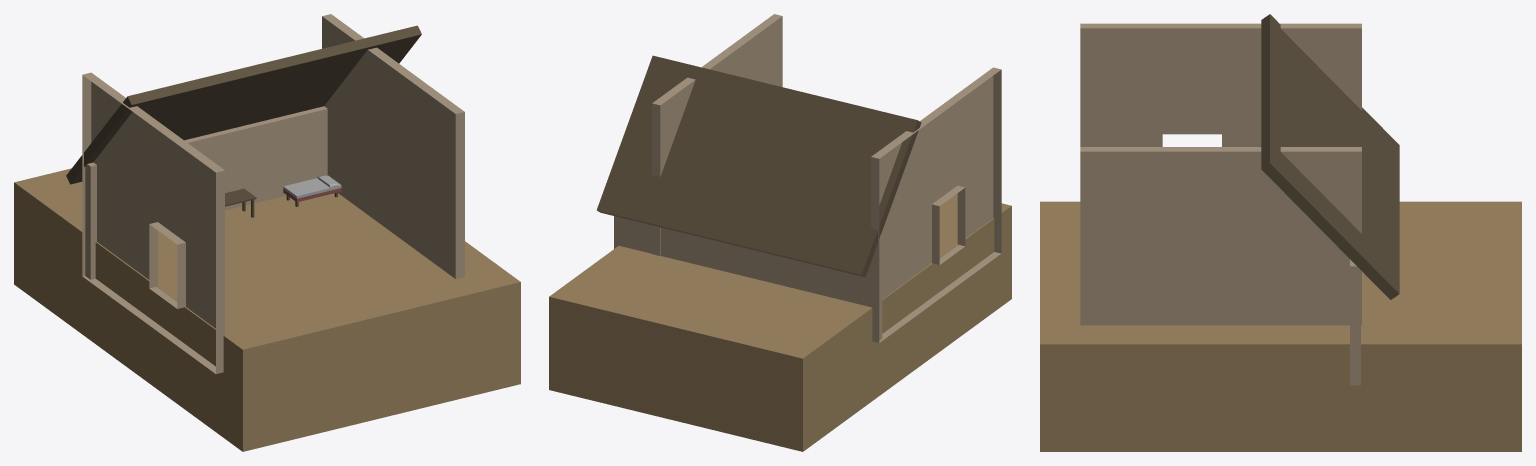
Rendered from silvaforesta2keyroom.fbx.
3 views of the same model, side by side, from view 1: azimuth 30°, elevation 25°; view 2: azimuth 150°, elevation 25°; view 3: azimuth 270°, elevation 25° (orthographic). The views are drawn at different scales.
Parts seen in each view (by area): view 1: pPlane1, pCube2, pCube16, pCube3, pCube1, pCube4; view 2: pPlane1, pCube3, pCube16, pCube1, pCube2; view 3: pPlane1, pCube2, pCube16, pCube3, pCube1.
Part boxes in pixels (x1,y1,x2,y2): pPlane1: (14,168,520,451); pCube2: (322,14,464,278); pCube16: (82,72,224,373); pCube3: (66,25,421,184); pCube1: (85,106,327,279); pCube4: (283,175,341,202); pPlane1: (549,193,1011,451); pCube3: (597,55,921,277); pCube16: (871,67,1001,342); pCube1: (614,216,882,340); pCube2: (652,14,782,256); pPlane1: (1040,201,1521,451); pCube2: (1080,147,1361,325); pCube16: (1080,23,1361,146); pCube3: (1261,14,1399,299); pCube1: (1350,259,1360,385).
Bounding box in the file's own units: 133 × 121 × 180.
